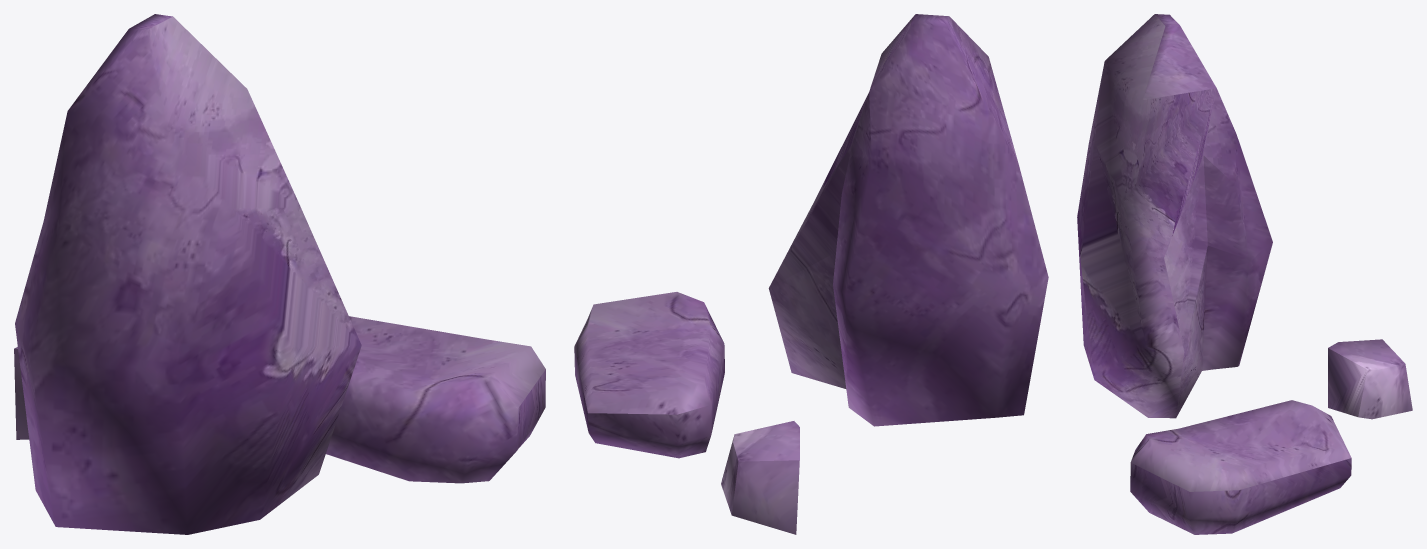
The model's file is pm-rock-05.glb.
3 renders of one model, left to right at view 1: azimuth 30°, elevation 25°; view 2: azimuth 150°, elevation 25°; view 3: azimuth 270°, elevation 25°, orthographic. The views are drawn at different scales.
Parts seen in each view (by area): view 1: Rock_05_Art; view 2: Rock_05_Art; view 3: Rock_05_Art.
Part boxes in pixels (left/top/right/bottom): Rock_05_Art: left=14, top=14, right=545, bottom=534; Rock_05_Art: left=574, top=14, right=1048, bottom=534; Rock_05_Art: left=1077, top=14, right=1412, bottom=534.
Size of what is drawn, in the model's own units: 2.71 by 2.61 by 2.03.
Materials: 1 (1 with a texture image).
